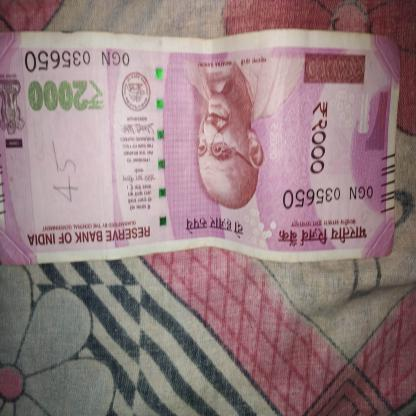New2000Front: (0, 33, 398, 257)
